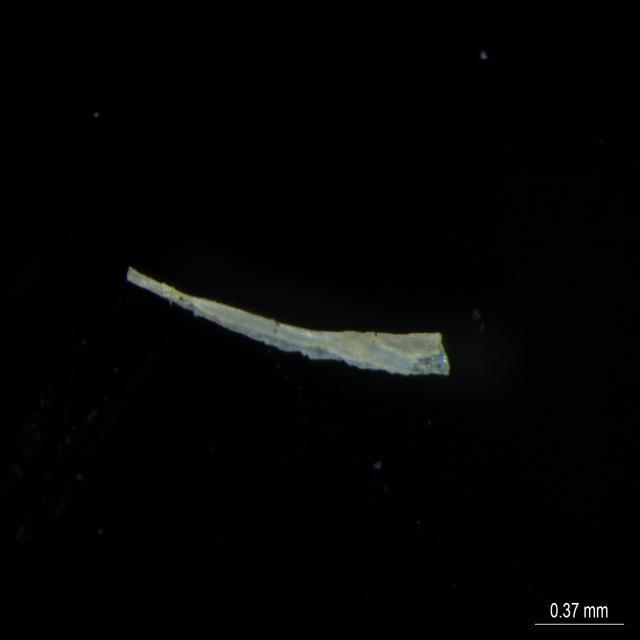fibers: (117, 266, 457, 388)
